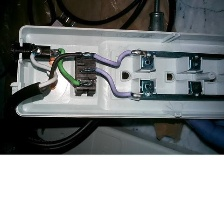three_eye_plug: (6, 19, 223, 124)
